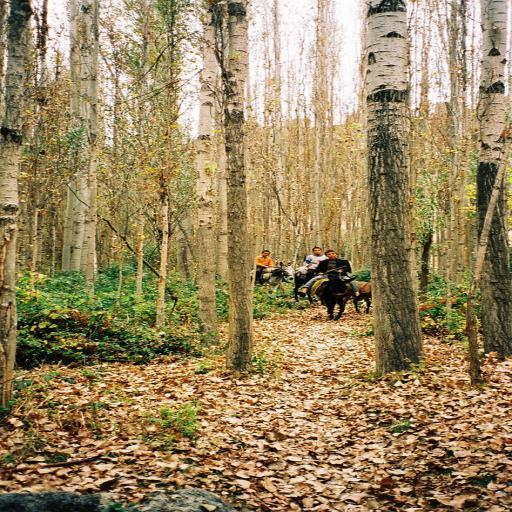horse: (317, 275, 358, 319), (251, 261, 294, 295), (347, 280, 372, 314), (292, 269, 312, 303)
